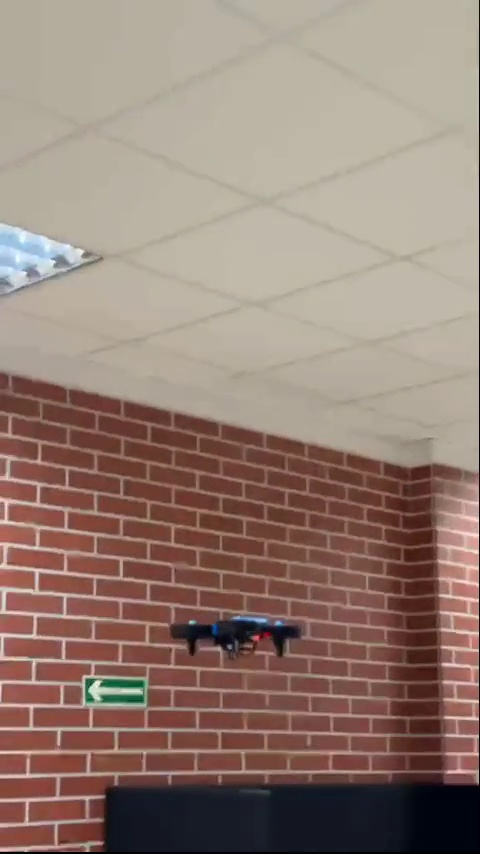drone: (173, 610, 297, 657)
